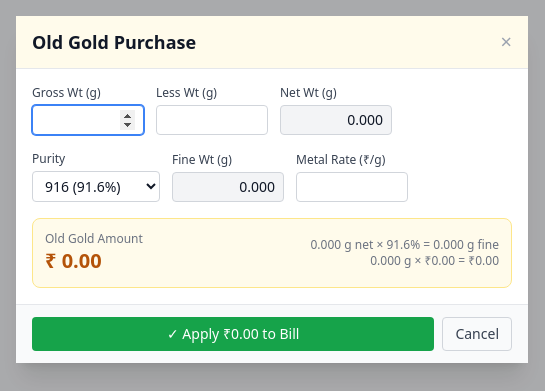
it: OldGoldPurchaseModal › calculations › calculates fine weight from net weight and purity
Step 1. Type "10" into the number field with test id "og-gross-weight" → [88, 120], box [32,104,144,134]
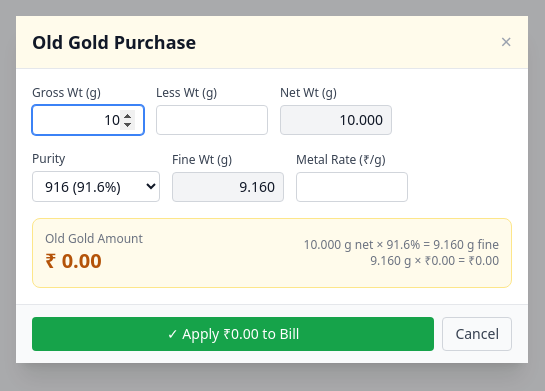
Check: the field with test id "og-fine-weight" holds "9.160", box [172,172,284,202]
